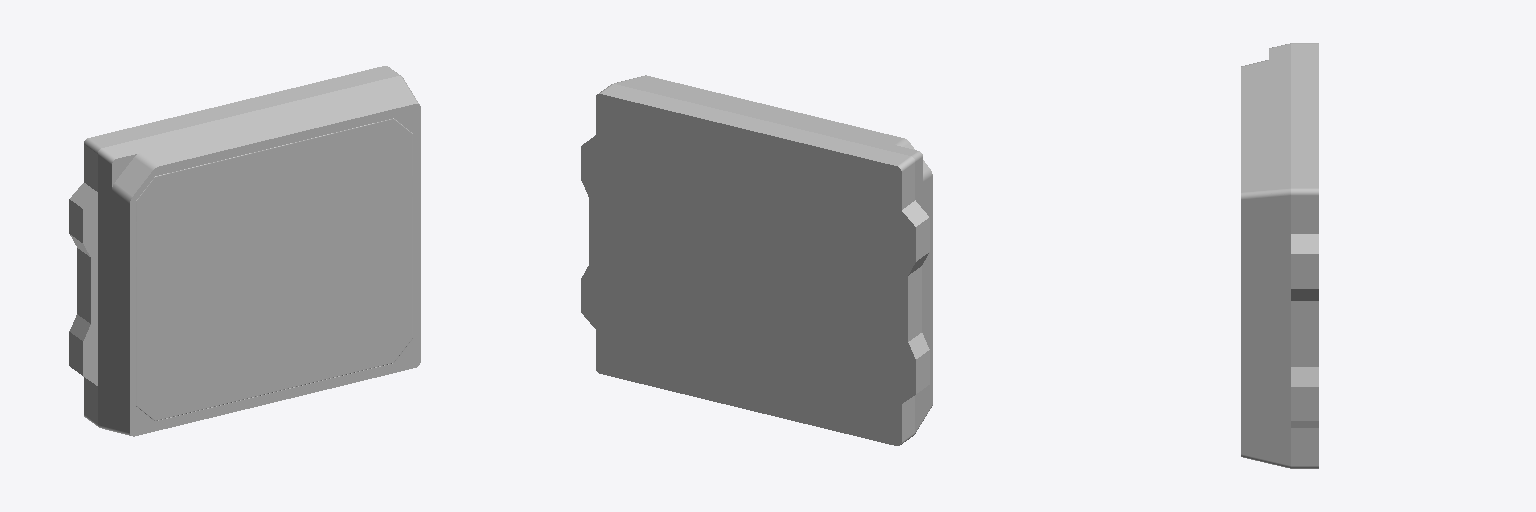
File: lm281b full assembly.obj
3 views of the same model, side by side, from view 1: azimuth 30°, elevation 25°; view 2: azimuth 150°, elevation 25°; view 3: azimuth 270°, elevation 25° (orthographic).
Parts seen in each view (by area): view 1: lm281b_full_assembly; view 2: lm281b_full_assembly; view 3: lm281b_full_assembly.
Boxes of the visible parts, <box> form: lm281b_full_assembly: <box>69,66,420,436</box>; lm281b_full_assembly: <box>581,75,932,445</box>; lm281b_full_assembly: <box>1241,43,1318,468</box>.
Size of the model in its own units: 3.5 by 2.8 by 0.7.